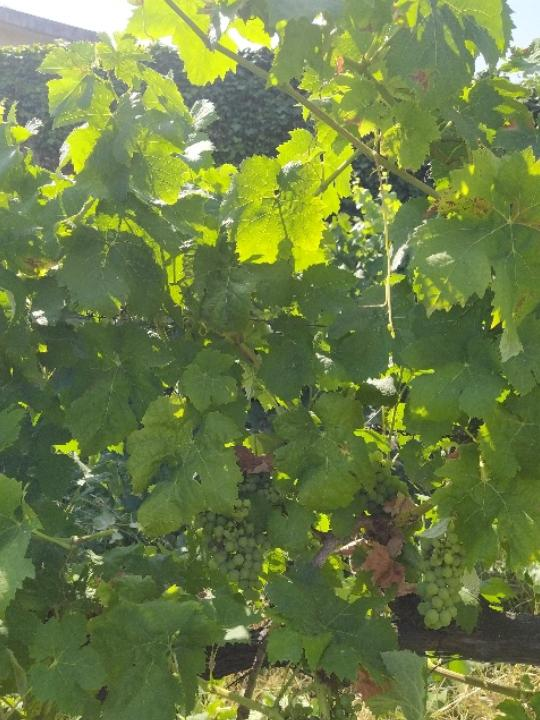grape: (193, 496, 276, 604), (413, 524, 471, 633)
